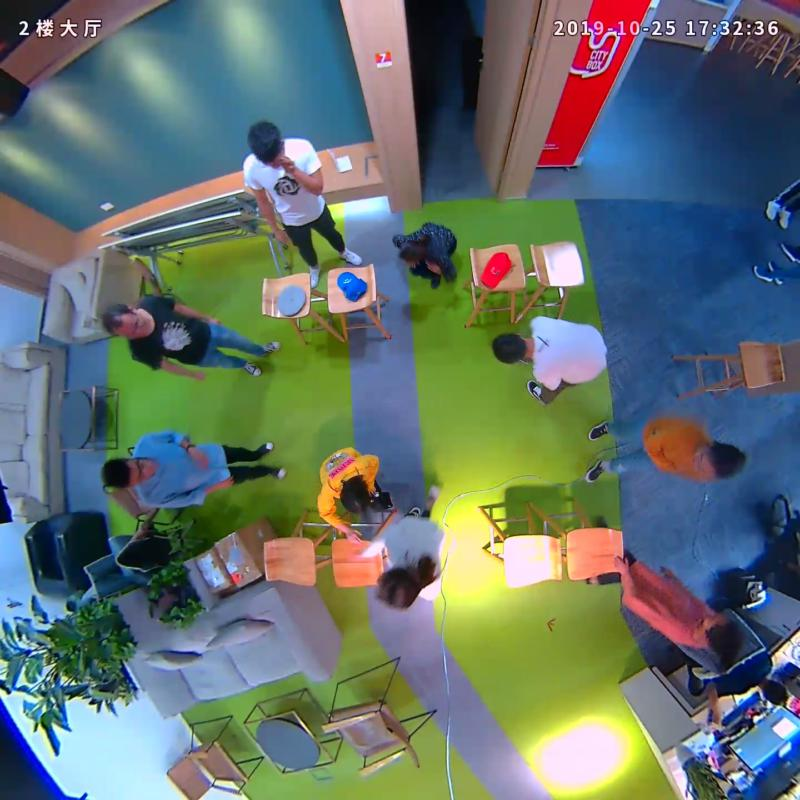head: (690, 433, 752, 486), (695, 607, 748, 666), (241, 117, 293, 169), (373, 562, 426, 613), (99, 299, 157, 343), (94, 455, 157, 493), (488, 326, 534, 369), (333, 478, 376, 519), (392, 235, 432, 272)
